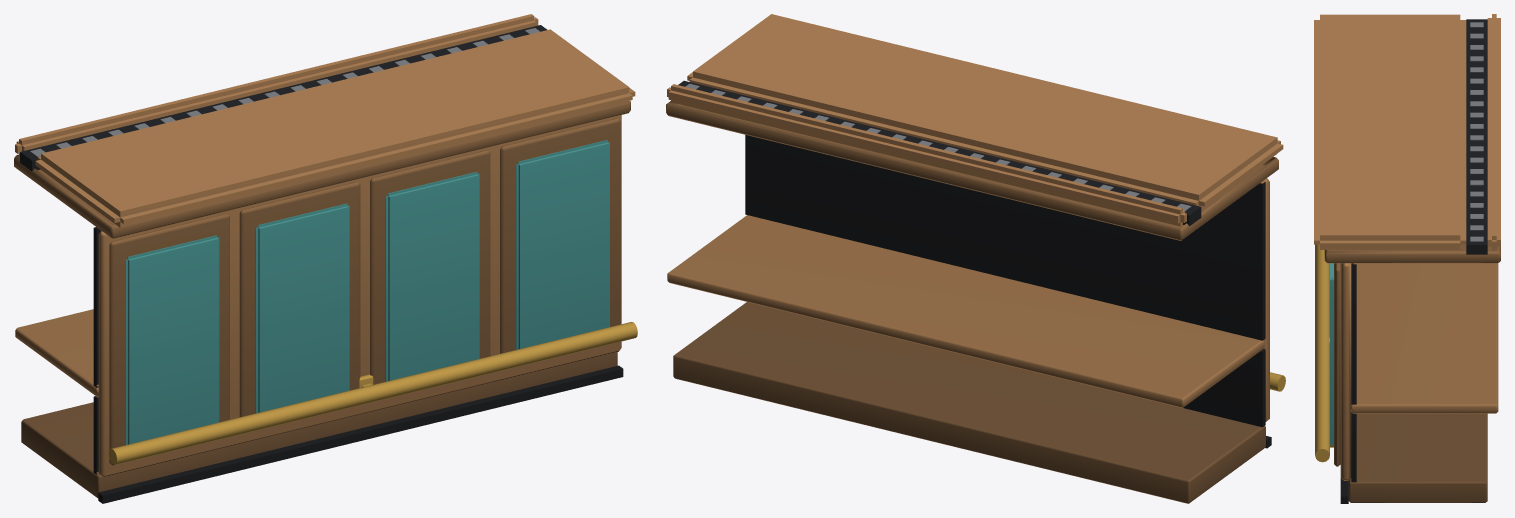
File: SM_Bar_Section_20.glb
The picture shows the model from 3 angles, left to right: view 1: azimuth 30°, elevation 25°; view 2: azimuth 150°, elevation 25°; view 3: azimuth 270°, elevation 25°; orthographic projection. The views are drawn at different scales.
Parts seen in each view (by area): view 1: SM_Bar_Section_20; view 2: SM_Bar_Section_20; view 3: SM_Bar_Section_20.
Boxes of the visible parts, left/top/right/bottom form: SM_Bar_Section_20: left=14, top=14, right=637, bottom=503; SM_Bar_Section_20: left=666, top=14, right=1285, bottom=503; SM_Bar_Section_20: left=1314, top=14, right=1500, bottom=503.
Size of the model in its own units: 2 by 1.1 by 0.7.
Materials: 1 (1 with a texture image).
